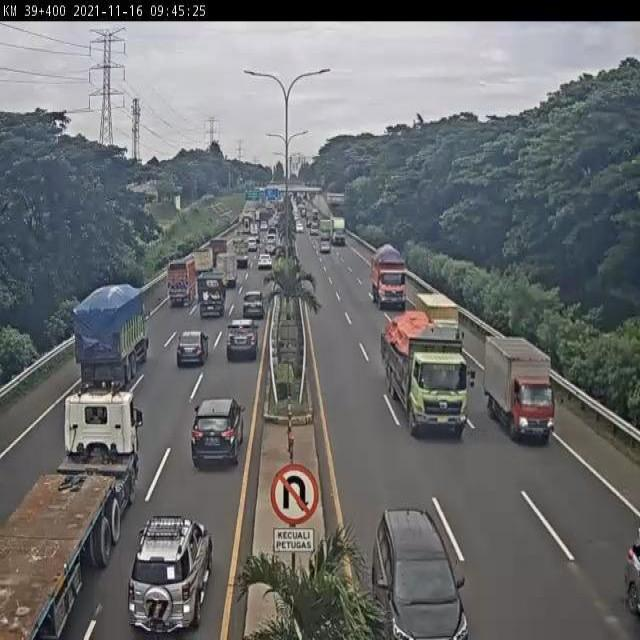car: (374, 509, 469, 640), (131, 518, 211, 640), (192, 399, 242, 468), (225, 320, 258, 364), (174, 331, 210, 365), (242, 292, 264, 320)
small truck: (486, 338, 553, 442)
truck-l-: (380, 319, 477, 441), (72, 287, 151, 392)
truck-m-: (371, 247, 407, 308), (166, 258, 194, 306), (198, 272, 225, 320)
truck-xl-: (0, 397, 146, 640)
